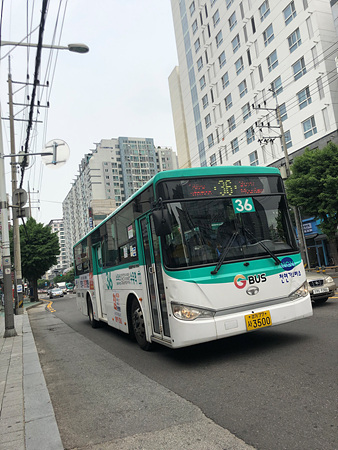bnum: (232, 196, 253, 212)
